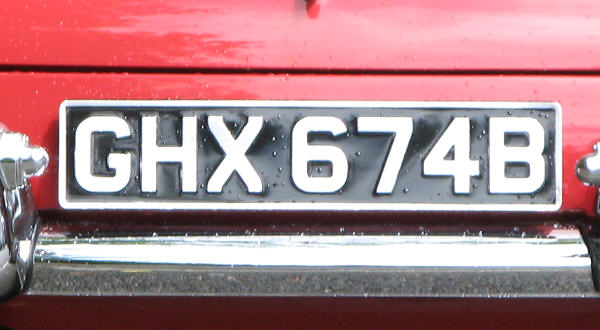license_plate: (59, 99, 563, 212)
